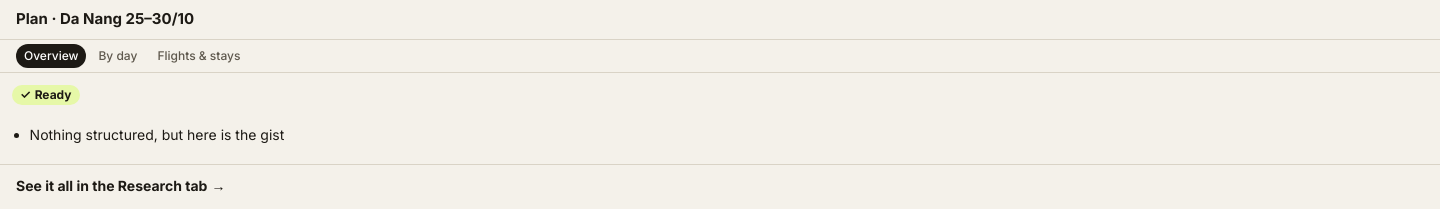
it: ResearchPlanPanel › falls back to the summary and the Research-tab link with an empty proposal
This screenshot has width=1440, height=209.
Expected: the list item "Nothing structured, but here is the gist" is shown, [30,126,284,143]
// By day and Flights & stays degrade to their empty hints, never crash.
Step 1. Click the button "By day" → (118,56), box [90,44,145,68]
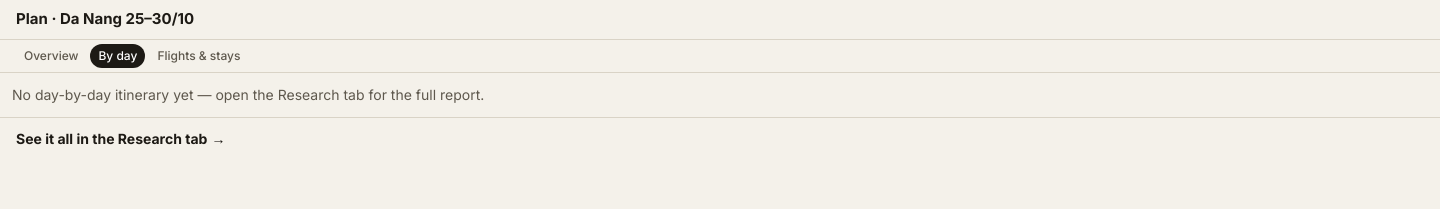
Result: the text "No day-by-day itinerary yet — open the Research tab for the full report." is shown at [12,86,484,102]
Step 2. Click the button "Flights & stays" → (199,56), box [149,44,248,68]
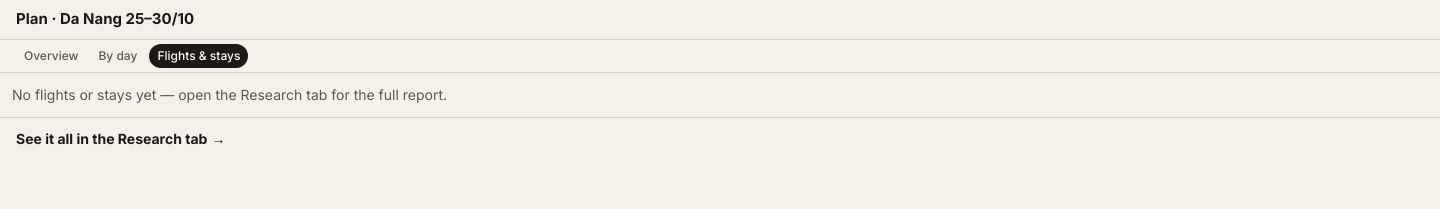
Result: the text "No flights or stays yet — open the Research tab for the full report." is shown at [12,86,447,102]
